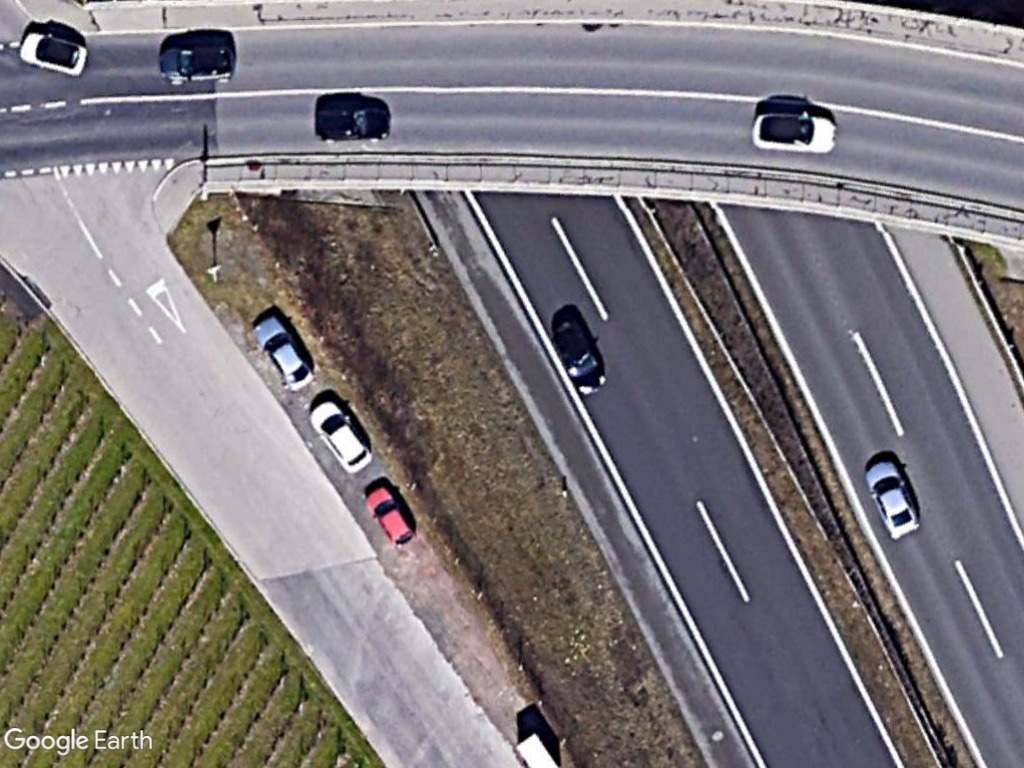car: (248, 307, 317, 394), (304, 395, 377, 476), (860, 452, 922, 544), (549, 311, 613, 398), (748, 107, 845, 162), (10, 27, 98, 82), (308, 99, 401, 147), (152, 39, 239, 88), (362, 478, 416, 552)
